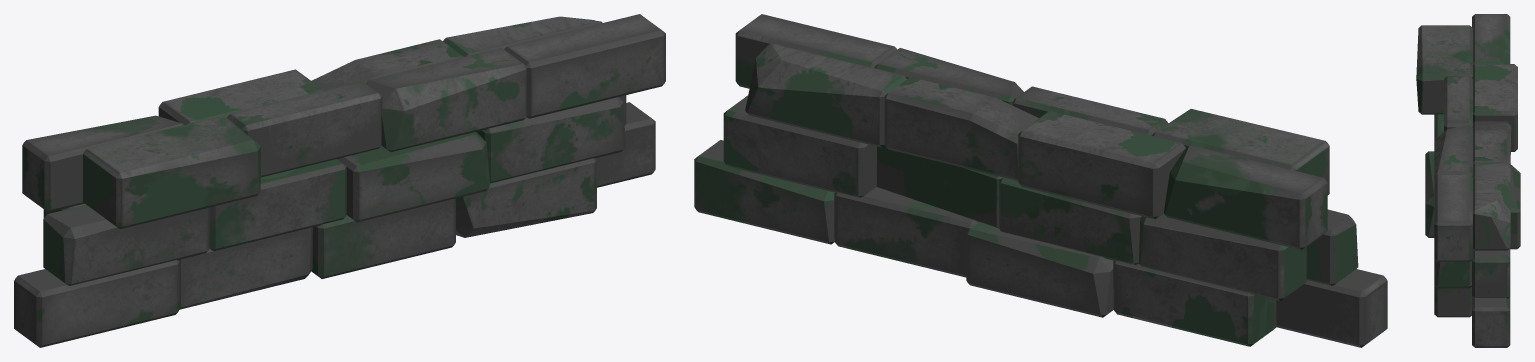
Rendered from StoneWall.fbx.
3 views of the same model, side by side, from view 1: azimuth 30°, elevation 25°; view 2: azimuth 150°, elevation 25°; view 3: azimuth 270°, elevation 25° (orthographic). The views are drawn at different scales.
Parts seen in each view (by area): view 1: Cube.046, Cube.047, Cube.045, Cube.040, Cube.048, Cube.044, Cube.042, Cube.043, Cube.041, Cube.038, Cube.037, Cube.039 (+5 smaller); view 2: Cube.034, Cube.033, Cube.036, Cube.035, Cube.027, Cube.029, Cube.032, Cube.028, Cube.026, Cube.025, Cube.030, Cube.040 (+6 smaller); view 3: Cube.046, Cube.045, Cube.036, Cube.034, Cube.025, Cube.033, Cube.032, Cube.047, Cube.035, Cube.048, Cube.037, Cube.041 (+3 smaller).
Part boxes in pixels (bbox=[...]): Cube.046: bbox=[83, 115, 260, 229]; Cube.047: bbox=[366, 48, 526, 152]; Cube.045: bbox=[504, 14, 665, 118]; Cube.040: bbox=[14, 260, 179, 347]; Cube.048: bbox=[227, 81, 382, 177]; Cube.044: bbox=[43, 205, 209, 285]; Cube.042: bbox=[337, 132, 490, 222]; Cube.043: bbox=[209, 159, 346, 251]; Cube.041: bbox=[476, 97, 625, 183]; Cube.038: bbox=[311, 198, 455, 278]; Cube.037: bbox=[456, 158, 596, 237]; Cube.039: bbox=[178, 227, 312, 309]; Cube.034: bbox=[1018, 111, 1185, 219]; Cube.033: bbox=[1164, 145, 1327, 250]; Cube.036: bbox=[745, 43, 906, 147]; Cube.035: bbox=[884, 77, 1038, 180]; Cube.027: bbox=[966, 222, 1113, 317]; Cube.029: bbox=[1139, 213, 1306, 301]; Cube.032: bbox=[723, 95, 876, 197]; Cube.028: bbox=[1113, 260, 1276, 346]; Cube.026: bbox=[834, 187, 978, 277]; Cube.025: bbox=[694, 140, 834, 244]; Cube.030: bbox=[999, 177, 1141, 264]; Cube.040: bbox=[1276, 269, 1387, 347]; Cube.046: bbox=[1416, 25, 1472, 114]; Cube.045: bbox=[1434, 174, 1472, 261]; Cube.036: bbox=[1472, 162, 1510, 250]; Cube.034: bbox=[1472, 64, 1517, 151]; Cube.025: bbox=[1472, 296, 1510, 347]; Cube.033: bbox=[1472, 14, 1510, 65]; Cube.032: bbox=[1472, 248, 1510, 298]; Cube.047: bbox=[1434, 125, 1472, 176]; Cube.035: bbox=[1473, 121, 1511, 167]; Cube.048: bbox=[1444, 76, 1472, 131]; Cube.037: bbox=[1434, 285, 1471, 317]; Cube.041: bbox=[1434, 259, 1471, 288].
Size of the model in its own units: 703 by 174 by 135.
1 material, 1 textured.
